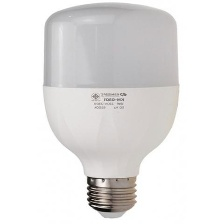light_bulb: (37, 0, 183, 224)
